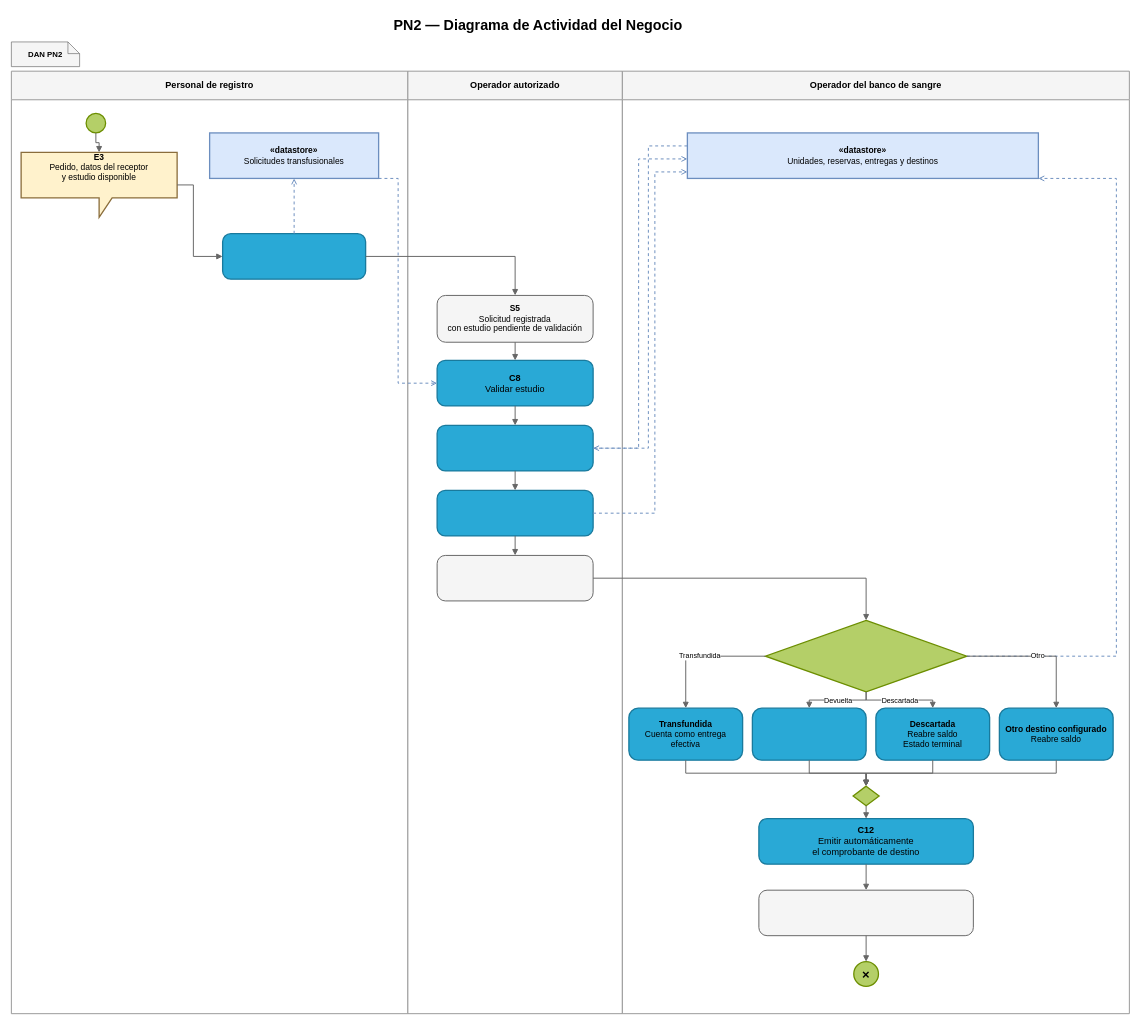
The diagram is 1141 pixels wide and 1025 high, and some of its shapes have lost their labels. The shapes that lost their labels are listed below. From the top down, each one's centre as x and y in pixels, then its label:
At point (294, 256): "C7 Registrar solicitud y estudio informado".
At point (514, 447): "C9 Reservar unidad compatible".
At point (514, 512): "C10 Entregar reserva activa".
At point (514, 578): "S6 Unidad entregada".
At point (865, 655): "C11 Registrar destino de la unidad".
At point (808, 733): "Devuelta Reabre saldo".
At point (866, 912): "S7 Comprobante de destino generado o pendiente".
